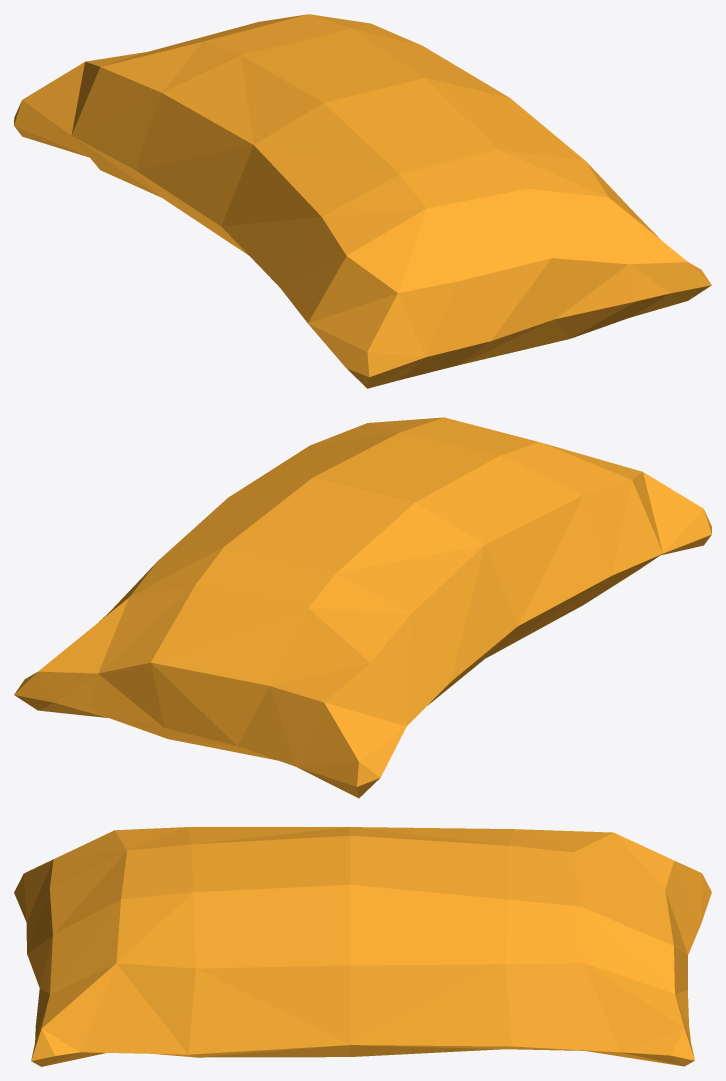
The model's file is SM_Bag_Lying_Full_B_Farm.fbx.
3 views of the same model, one above another, from view 1: azimuth 30°, elevation 25°; view 2: azimuth 150°, elevation 25°; view 3: azimuth 270°, elevation 25° (orthographic).
Visible parts, largest first — view 1: bag-lying-full-b-farm; view 2: bag-lying-full-b-farm; view 3: bag-lying-full-b-farm.
Boxes of the visible parts, bbox=[...] form: bag-lying-full-b-farm: bbox=[14, 14, 711, 388]; bag-lying-full-b-farm: bbox=[14, 417, 711, 798]; bag-lying-full-b-farm: bbox=[14, 827, 711, 1066].
Bounding box in the file's own units: 0.5818 × 0.2316 × 0.9676.
